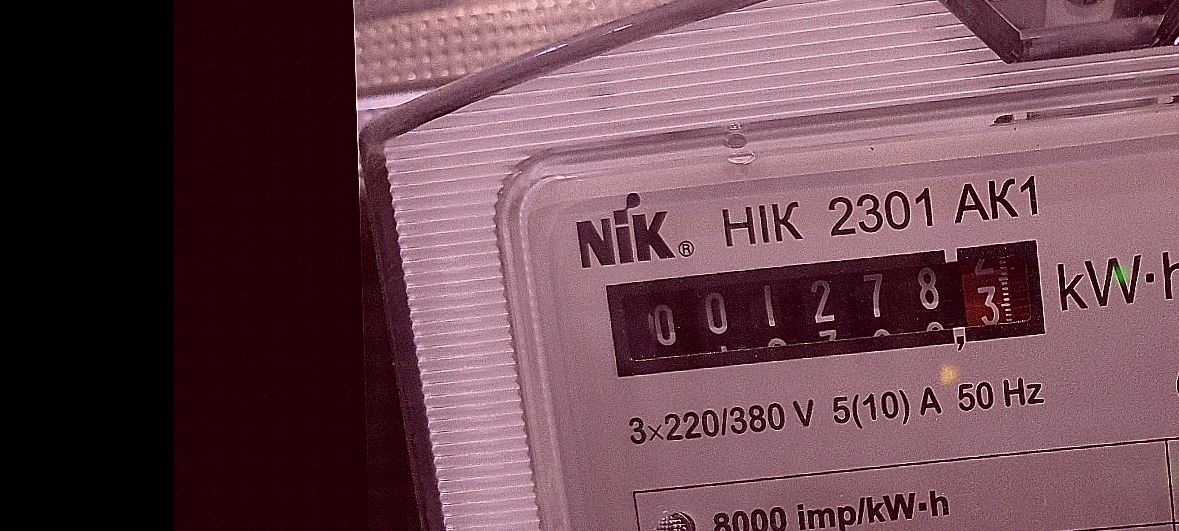0: (652, 299, 680, 347), (703, 289, 730, 336)
1: (760, 280, 780, 327)
2: (809, 277, 837, 325), (972, 255, 997, 275)
3: (975, 282, 1003, 327)
7: (862, 271, 885, 318)
8: (917, 265, 942, 310)
screen: (591, 227, 1064, 389)
